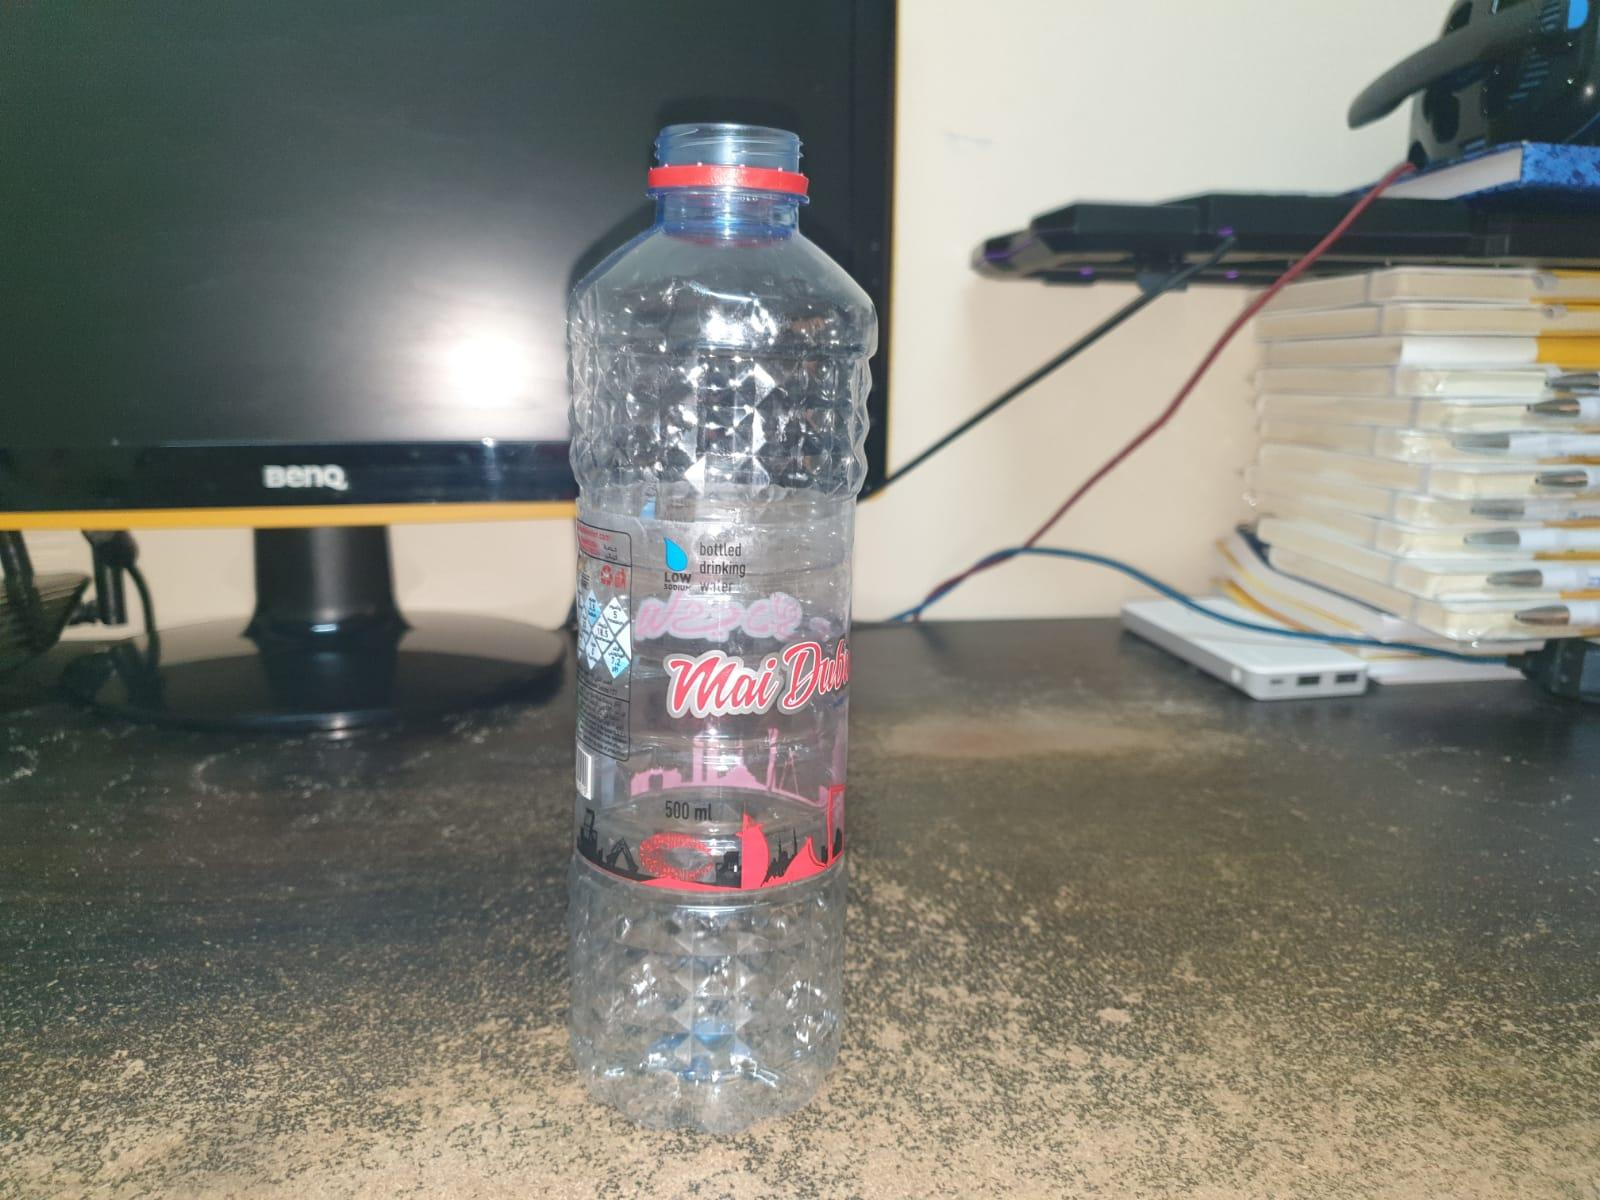bottle: (561, 111, 863, 1146)
